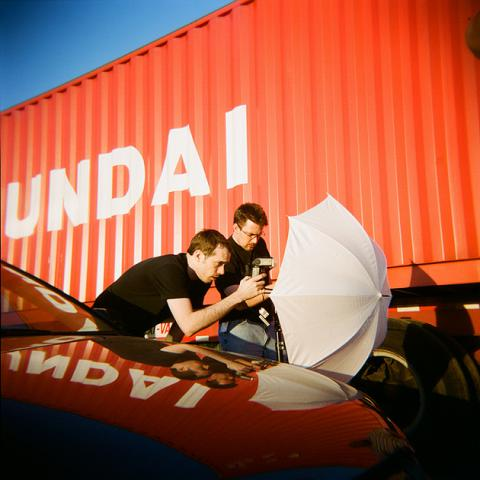car: (2, 259, 431, 474)
truck: (2, 0, 479, 303)
